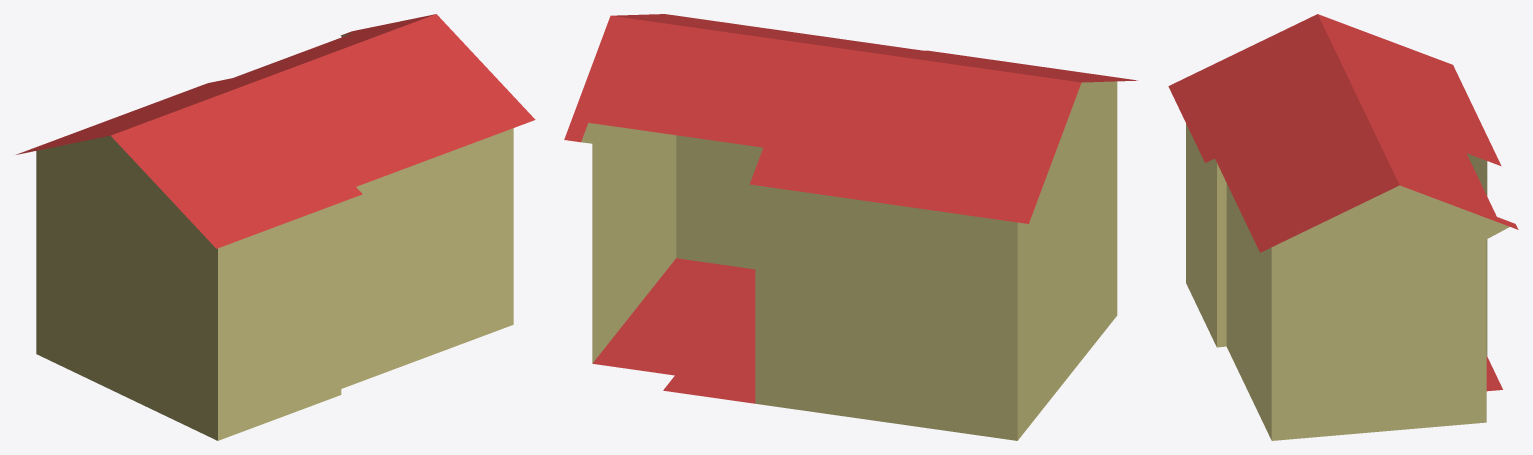
The picture shows the model from 3 angles, left to right: view 1: azimuth 30°, elevation 25°; view 2: azimuth 150°, elevation 25°; view 3: azimuth 270°, elevation 25°; orthographic projection. The views are drawn at different scales.
Size of the model in its own units: 15.55 by 11.81 by 9.34.
